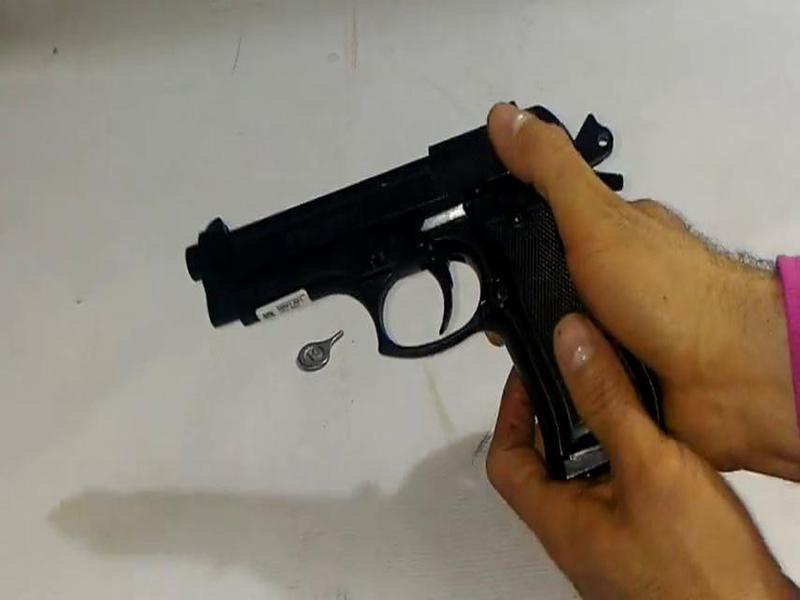Pistola: (172, 89, 704, 510)
